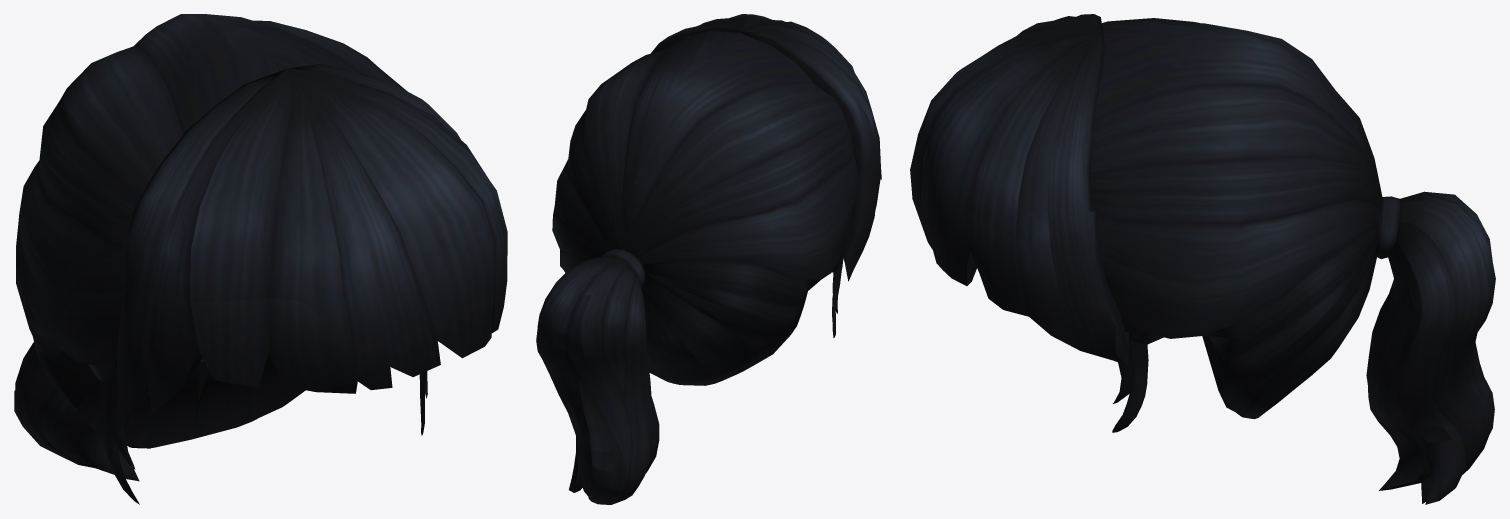
File: hair2.glb
The picture shows the model from 3 angles, left to right: view 1: azimuth 30°, elevation 25°; view 2: azimuth 150°, elevation 25°; view 3: azimuth 270°, elevation 25°; orthographic projection. The views are drawn at different scales.
Visible parts, largest first — view 1: s4studio_mesh_2, s4studio_mesh_1, s4studio_mesh_3; view 2: s4studio_mesh_2, s4studio_mesh_1, s4studio_mesh_3; view 3: s4studio_mesh_2, s4studio_mesh_1, s4studio_mesh_3.
Part boxes in pixels (left/top/right/bottom): s4studio_mesh_2: left=19, top=14, right=507, bottom=339; s4studio_mesh_1: left=14, top=215, right=507, bottom=504; s4studio_mesh_3: left=16, top=268, right=283, bottom=384; s4studio_mesh_2: left=554, top=14, right=879, bottom=264; s4studio_mesh_1: left=536, top=139, right=881, bottom=504; s4studio_mesh_3: left=553, top=122, right=879, bottom=295; s4studio_mesh_2: left=910, top=14, right=1382, bottom=275; s4studio_mesh_1: left=910, top=173, right=1495, bottom=504; s4studio_mesh_3: left=967, top=231, right=1309, bottom=320.
Bounding box in the file's own units: 0.1552 × 0.2223 × 0.2555.
1 material, 1 textured.
